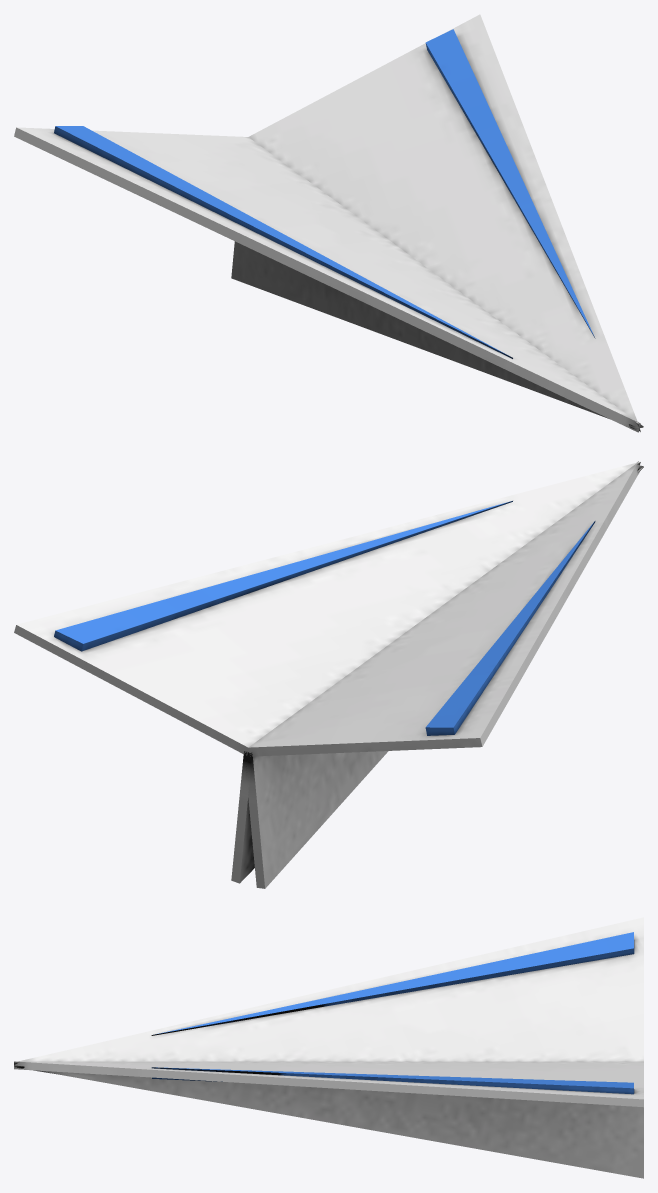
Rendered from paper_plane.glb.
3 views of the same model, one above another, from view 1: azimuth 30°, elevation 25°; view 2: azimuth 150°, elevation 25°; view 3: azimuth 270°, elevation 25° (orthographic). The views are drawn at different scales.
Visible parts, largest first — view 1: paper_plane; view 2: paper_plane; view 3: paper_plane.
Part boxes in pixels (x1=…): paper_plane: x1=14, y1=14, x2=643, y2=432; paper_plane: x1=14, y1=461, x2=643, y2=888; paper_plane: x1=14, y1=917, x2=643, y2=1178.
Bounding box in the file's own units: 0.2211 × 0.0921 × 0.32.
2 materials, 2 textured.
